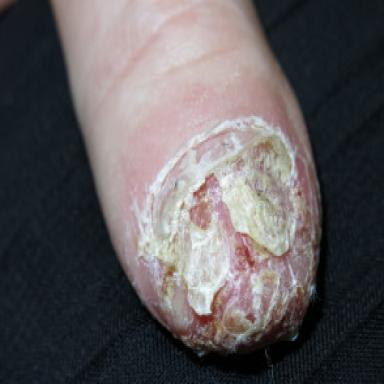eczema: (131, 116, 320, 353)
